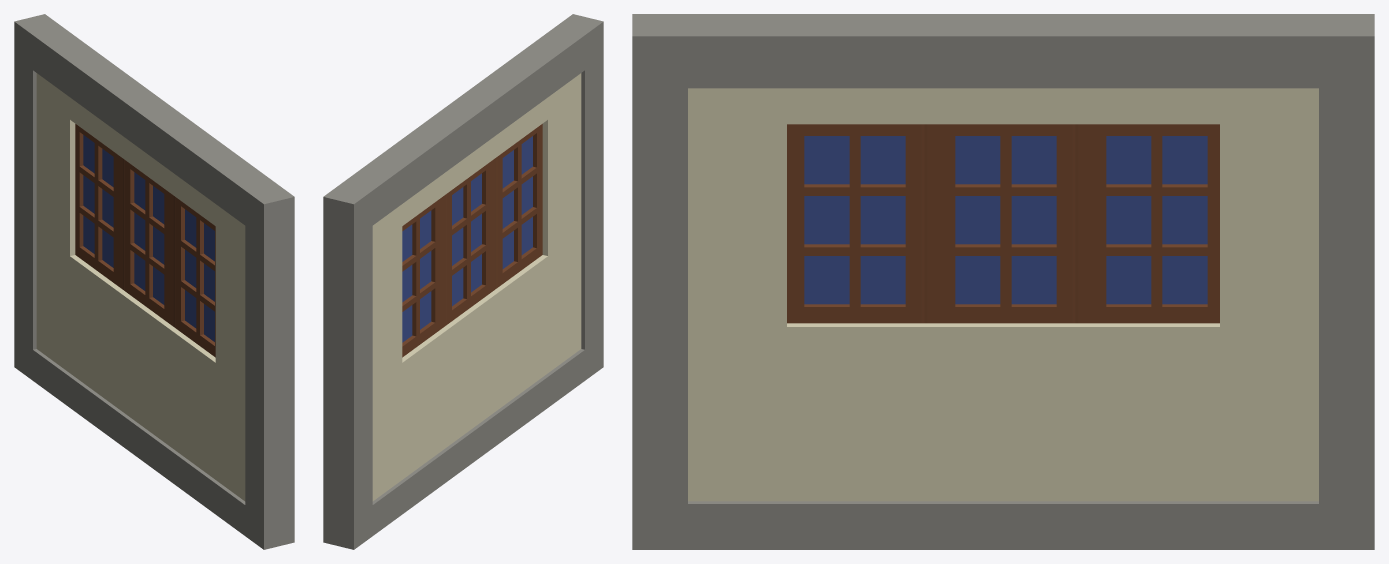
Rendered from Window01_house2.obj.
3 views of the same model, side by side, from view 1: azimuth 30°, elevation 25°; view 2: azimuth 150°, elevation 25°; view 3: azimuth 270°, elevation 25° (orthographic). The views are drawn at different scales.
Parts seen in each view (by area): view 1: Window01_house02_Cube.001; view 2: Window01_house02_Cube.001; view 3: Window01_house02_Cube.001.
Boxes of the visible parts, x1=… form: Window01_house02_Cube.001: x1=14, y1=14, x2=294, y2=549; Window01_house02_Cube.001: x1=323, y1=14, x2=603, y2=549; Window01_house02_Cube.001: x1=632, y1=14, x2=1374, y2=549.
Bounding box in the file's own units: 0.3417 × 3.67 × 4.81.
